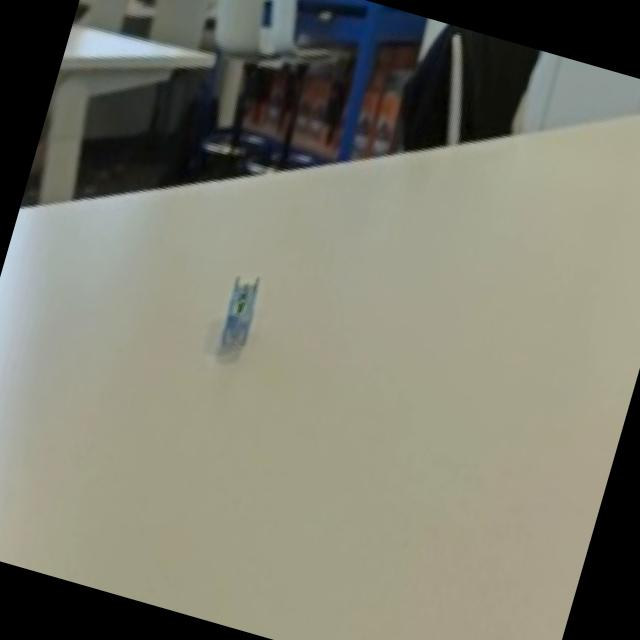3_NanoBug_Celeste: (182, 248, 288, 386)
